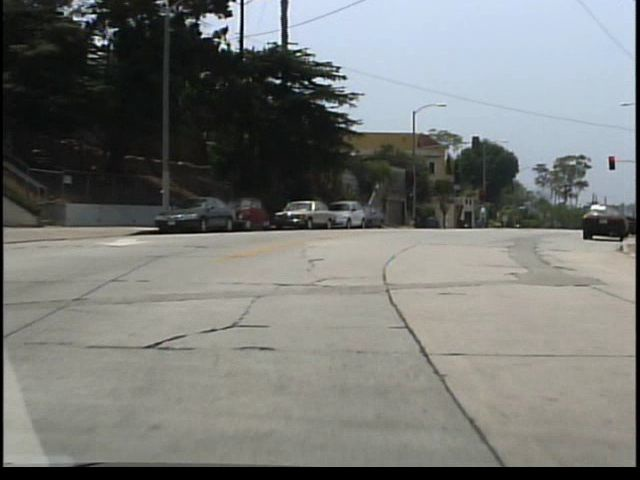person: (481, 206, 489, 230)
